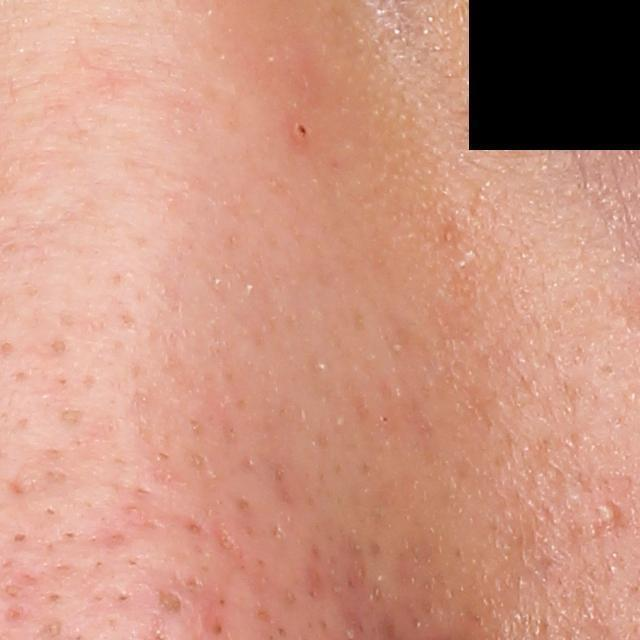comedo: (153, 588, 188, 617)
